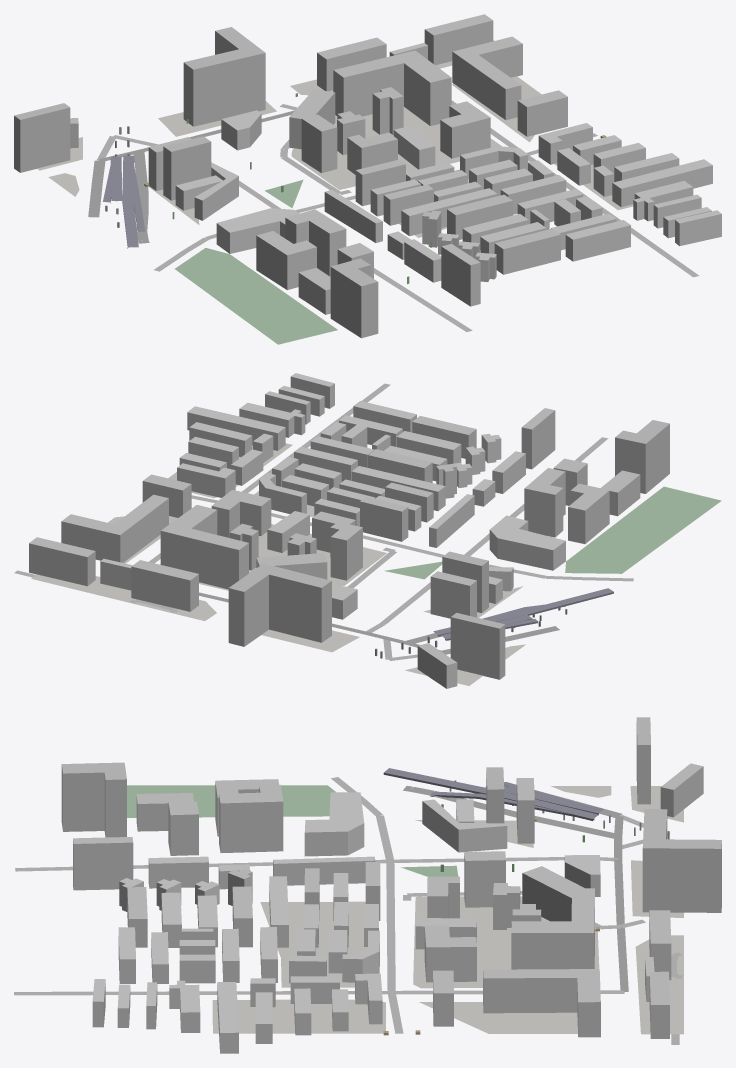
The picture shows the model from 3 angles, top to bottom: view 1: azimuth 30°, elevation 25°; view 2: azimuth 150°, elevation 25°; view 3: azimuth 270°, elevation 25°; orthographic projection. The views are drawn at different scales.
Size of the model in its own units: 561 by 62.07 by 601.
